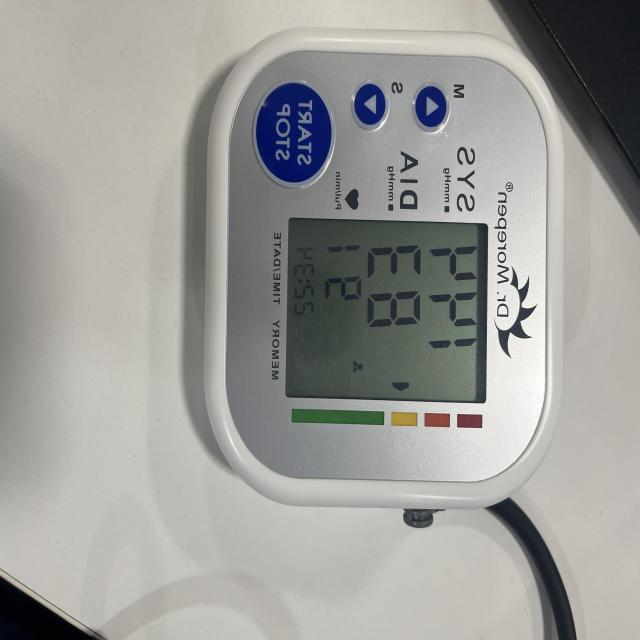bp: (180, 29, 566, 534)
